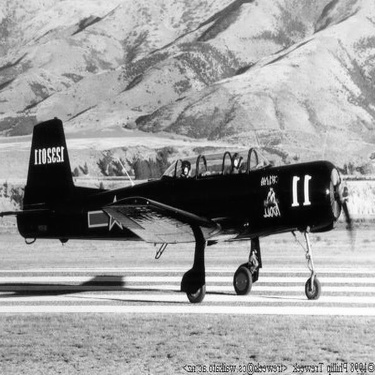airplane: (6, 105, 358, 302)
